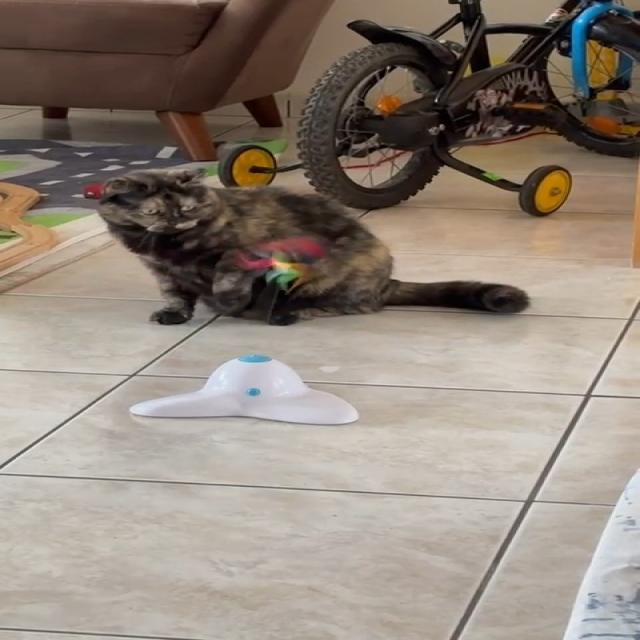authorized: (93, 167, 531, 326)
